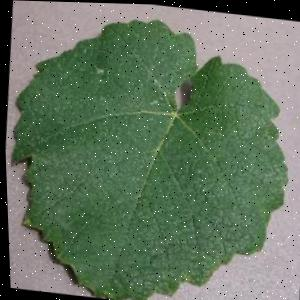Folha: (0, 3, 300, 300)
